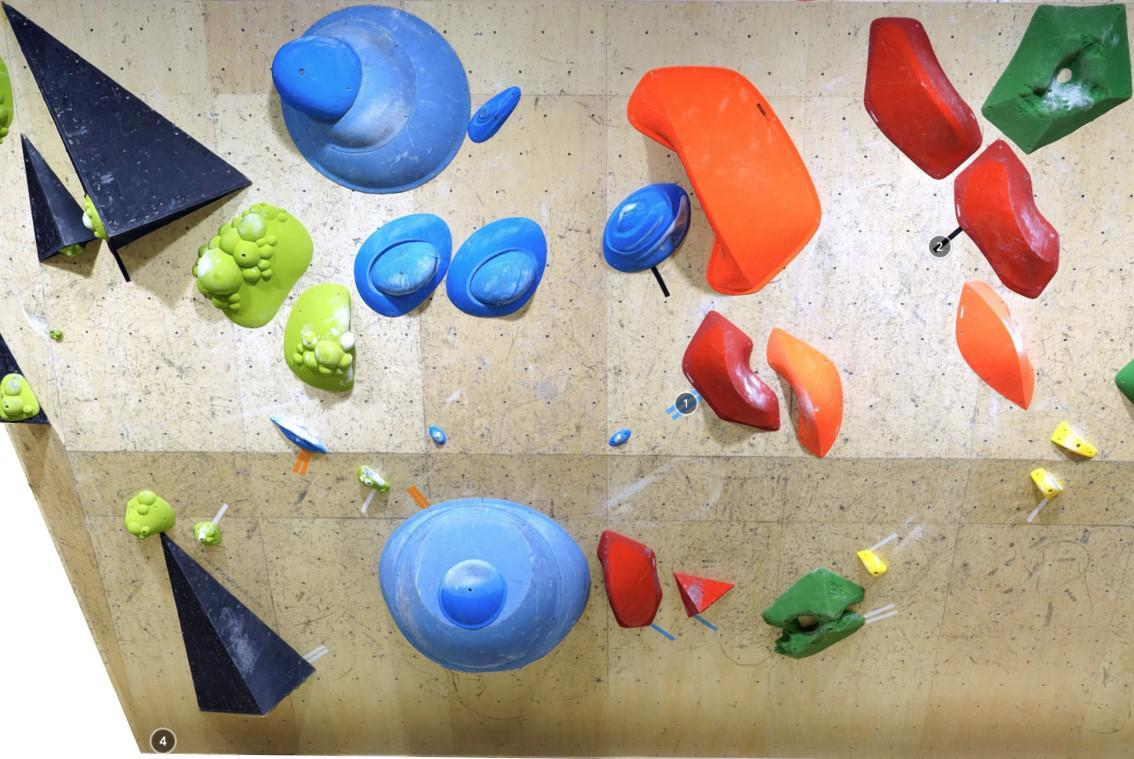hold: (628, 67, 821, 295), (378, 497, 591, 674), (272, 9, 471, 193), (982, 4, 1130, 154), (864, 17, 984, 180), (954, 140, 1059, 299), (192, 203, 312, 329), (680, 309, 780, 431), (766, 326, 843, 459), (354, 214, 453, 317), (955, 281, 1034, 410), (445, 218, 546, 316), (764, 565, 866, 659), (283, 284, 356, 392), (603, 183, 691, 272), (594, 529, 663, 629), (468, 86, 522, 143), (674, 574, 735, 617), (125, 490, 176, 540), (0, 373, 40, 421), (270, 418, 326, 452), (1050, 419, 1097, 458), (82, 192, 107, 240), (0, 55, 13, 146), (1032, 467, 1066, 499), (357, 464, 392, 494), (1115, 358, 1134, 406), (857, 549, 887, 577), (193, 520, 221, 546), (608, 428, 631, 447), (58, 244, 85, 257), (429, 426, 446, 446), (49, 328, 62, 341)
volume: (0, 0, 254, 281), (159, 531, 318, 716), (21, 129, 103, 263), (0, 331, 51, 423)
